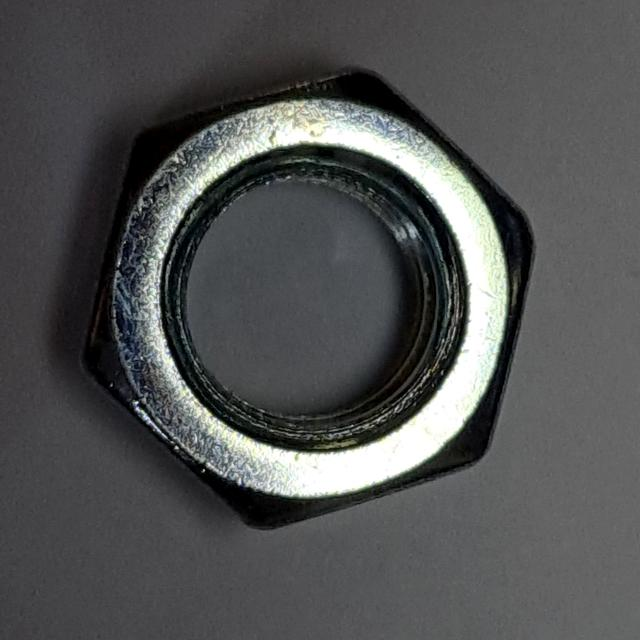Excellent: (70, 55, 549, 547)
